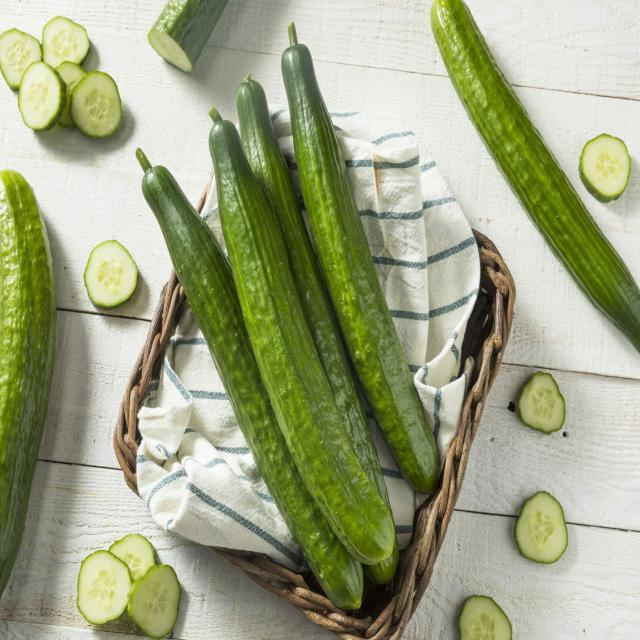cucumber: (135, 42, 443, 607)
